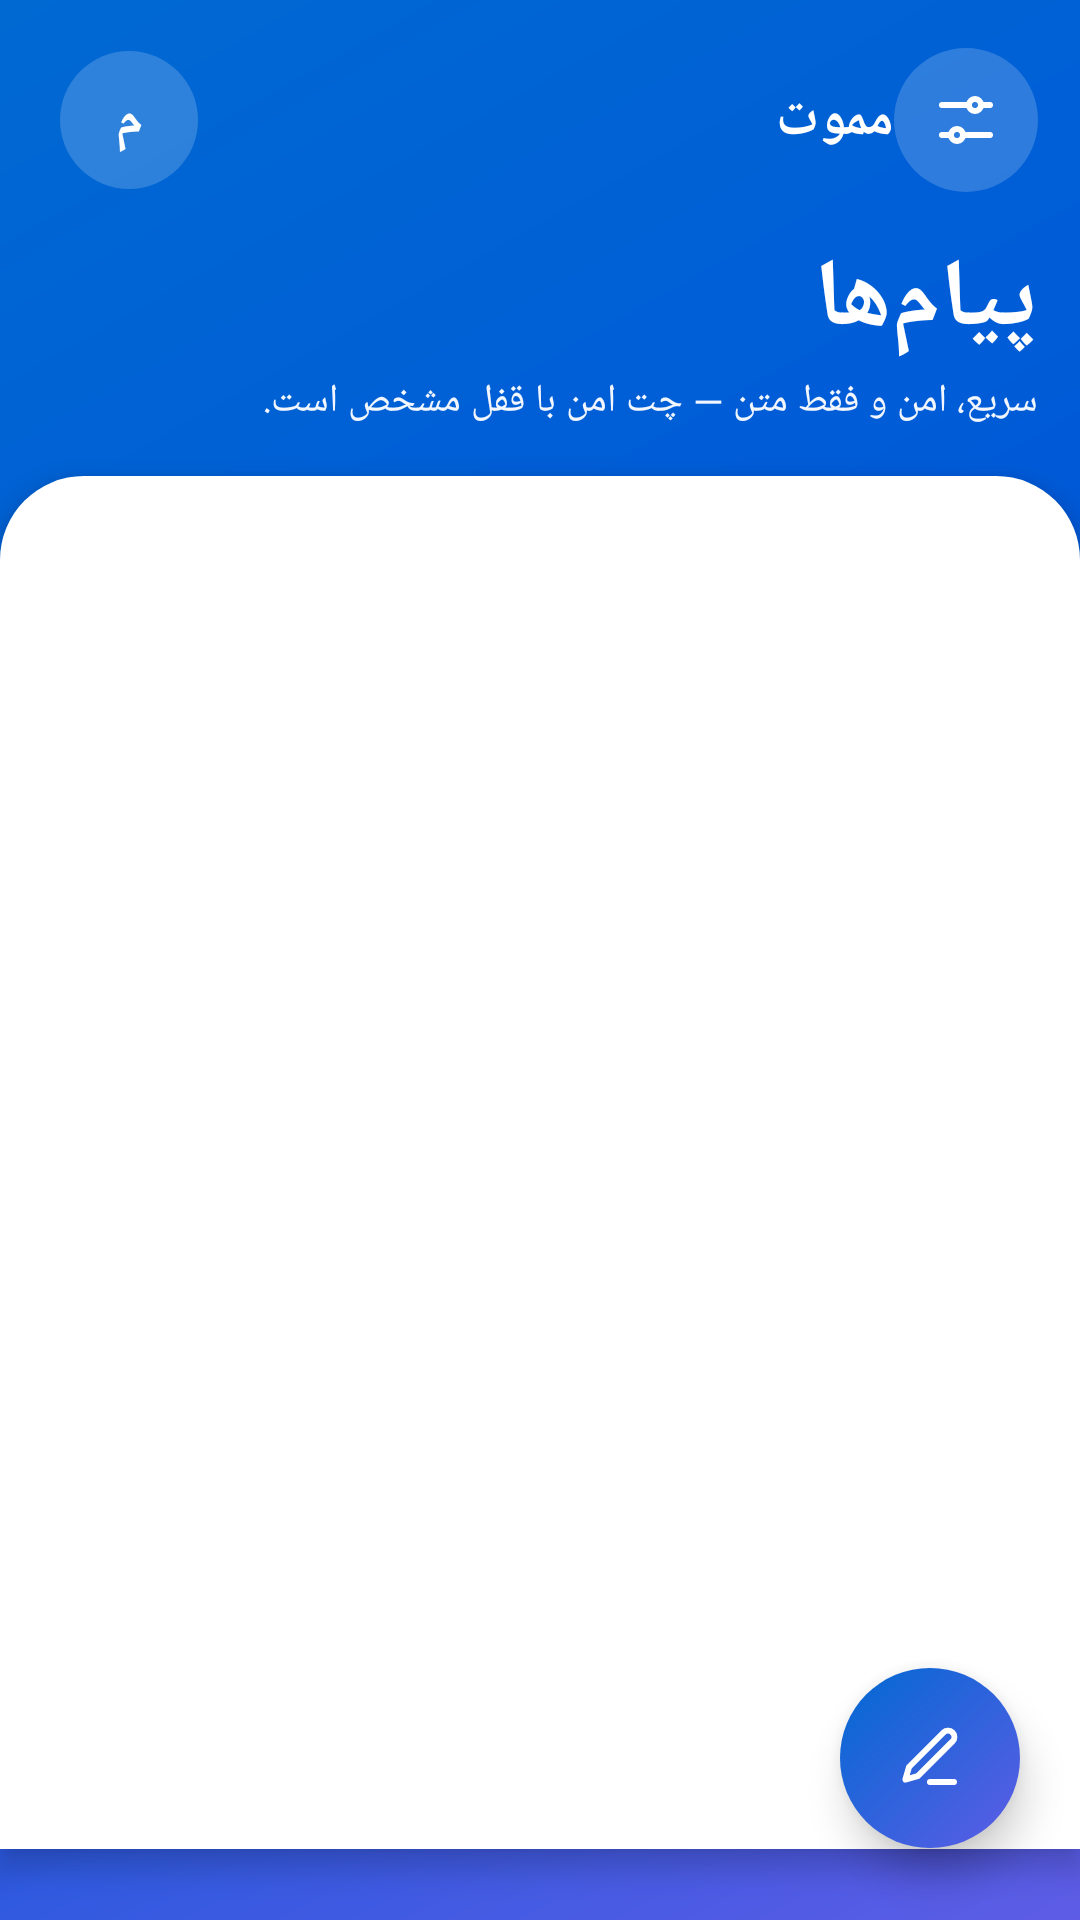

Named icons in this screenshot (1080w x 1920h) and their centers, [x,y]:
تنظیمات: [966,120]
گفتگوی جدید: [930,1758]
